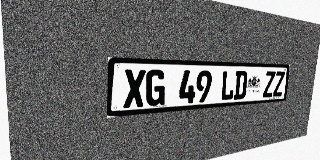4: (179, 70, 197, 104)
9: (195, 70, 212, 103)
D: (233, 71, 248, 100)
G: (145, 70, 166, 107)
L: (220, 71, 235, 101)
X: (123, 69, 146, 108)
Z: (263, 71, 275, 97), (273, 71, 285, 97)
